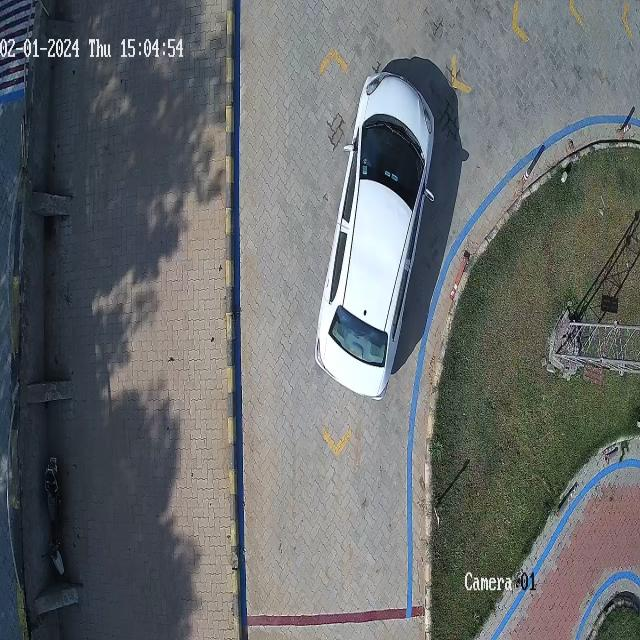car: (315, 71, 434, 397)
